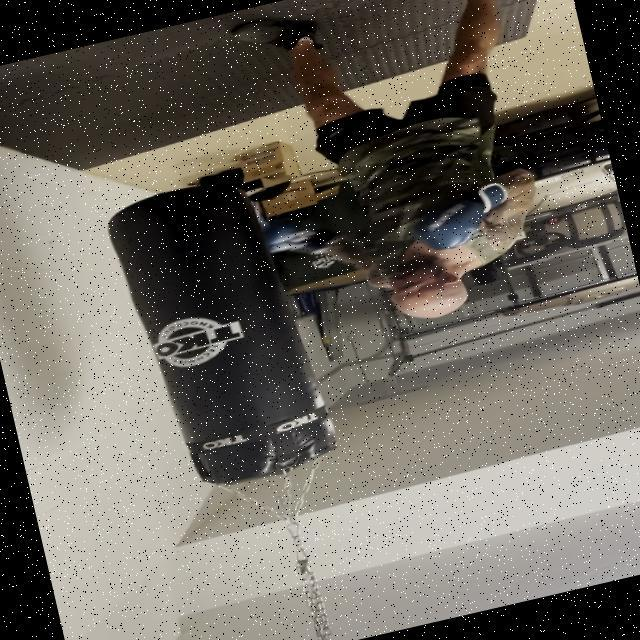bag: (107, 164, 348, 498)
hook: (228, 134, 556, 373)
